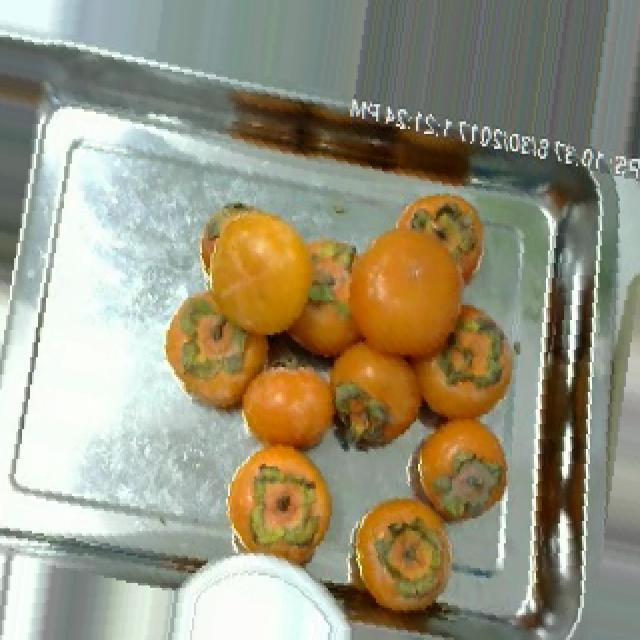Fruit: (186, 191, 328, 352), (338, 478, 472, 632), (212, 441, 346, 583), (372, 183, 500, 330)
